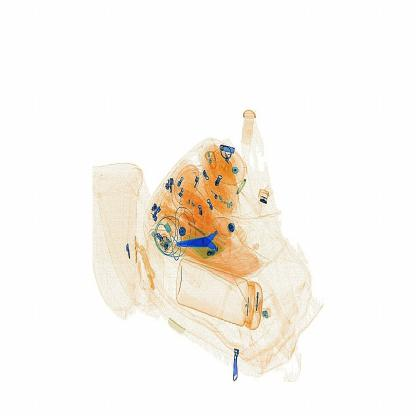gun: (172, 211, 249, 272)
